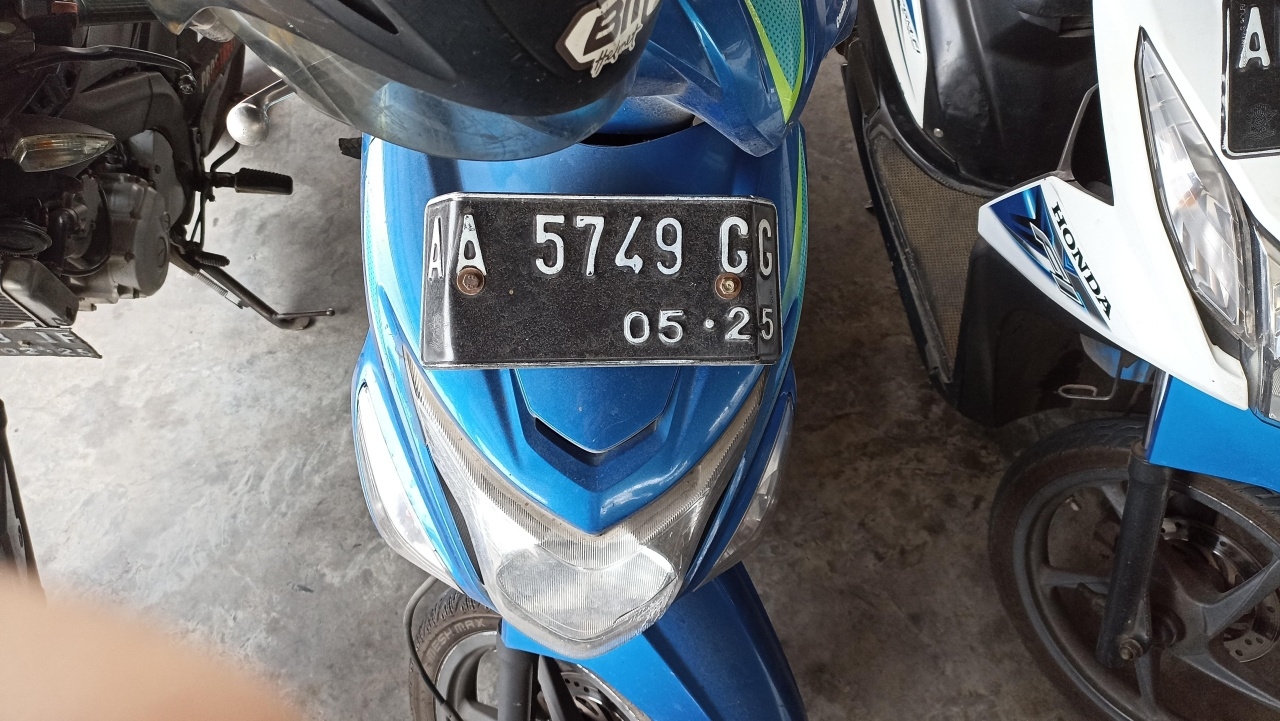plate: (424, 196, 780, 374)
